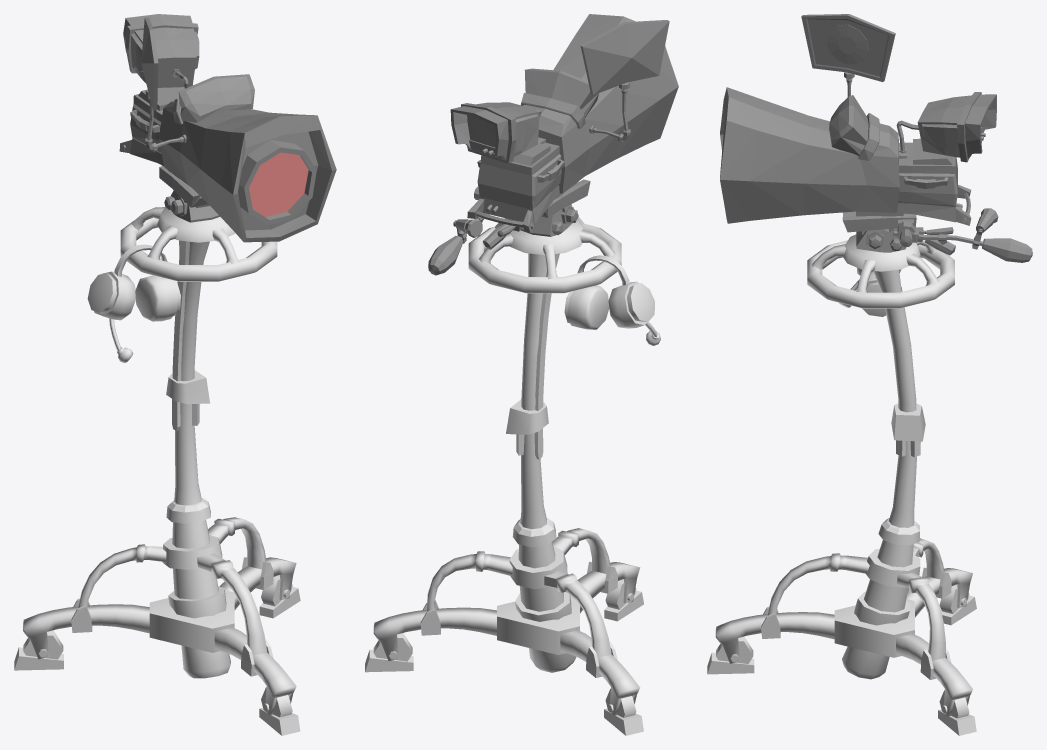
Rendered from ProxyCamera.FBX.
3 views of the same model, side by side, from view 1: azimuth 30°, elevation 25°; view 2: azimuth 150°, elevation 25°; view 3: azimuth 270°, elevation 25° (orthographic). The views are drawn at different scales.
Parts seen in each view (by area): view 1: MOD_Camera, MOD_TopCamera; view 2: MOD_Camera, MOD_TopCamera; view 3: MOD_TopCamera, MOD_Camera.
Part boxes in pixels (x1=…): MOD_Camera: x1=14, y1=207, x2=300, y2=735; MOD_TopCamera: x1=119, y1=14, x2=336, y2=242; MOD_Camera: x1=365, y1=217, x2=660, y2=735; MOD_TopCamera: x1=428, y1=14, x2=678, y2=275; MOD_TopCamera: x1=720, y1=14, x2=1032, y2=262; MOD_Camera: x1=707, y1=234, x2=976, y2=735.
Bounding box in the file's own units: 110 × 246 × 115.
